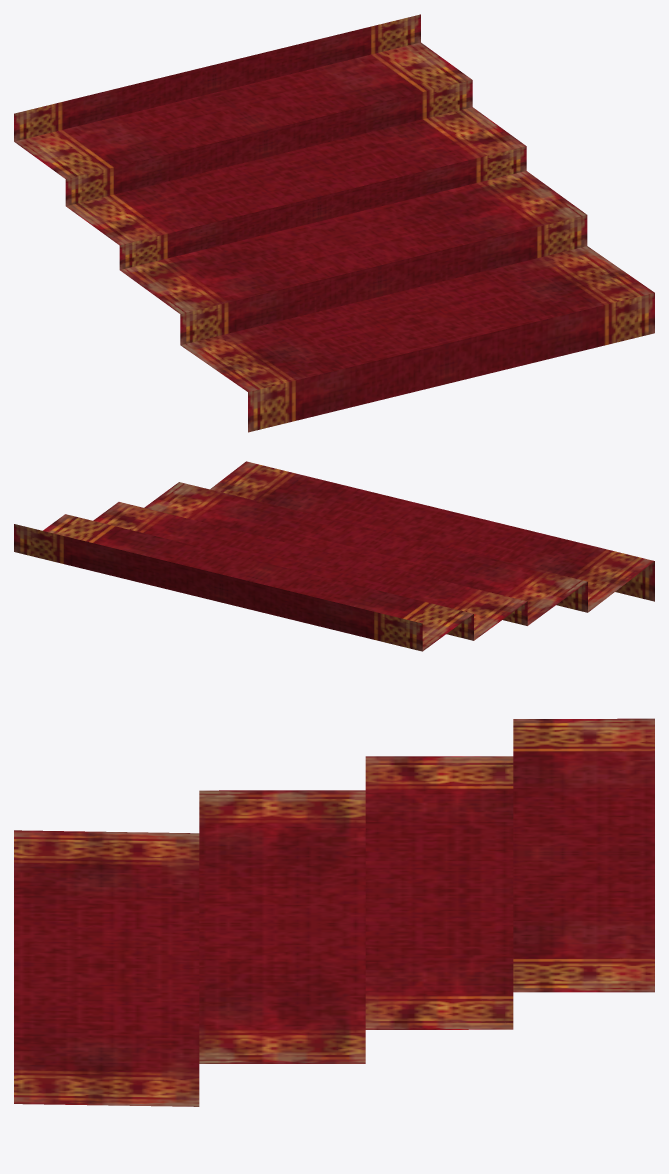
Rendered from Y_Taijie.fbx.
3 views of the same model, one above another, from view 1: azimuth 30°, elevation 25°; view 2: azimuth 150°, elevation 25°; view 3: azimuth 270°, elevation 25° (orthographic). The views are drawn at different scales.
Visible parts, largest first — view 1: C_taijie; view 2: C_taijie; view 3: C_taijie.
Part boxes in pixels (x1,y1,x2,y2): C_taijie: [14, 14, 654, 432]; C_taijie: [14, 461, 654, 651]; C_taijie: [14, 718, 654, 1106].
Size of the model in its own units: 0.6656 by 0.2319 by 0.657.
